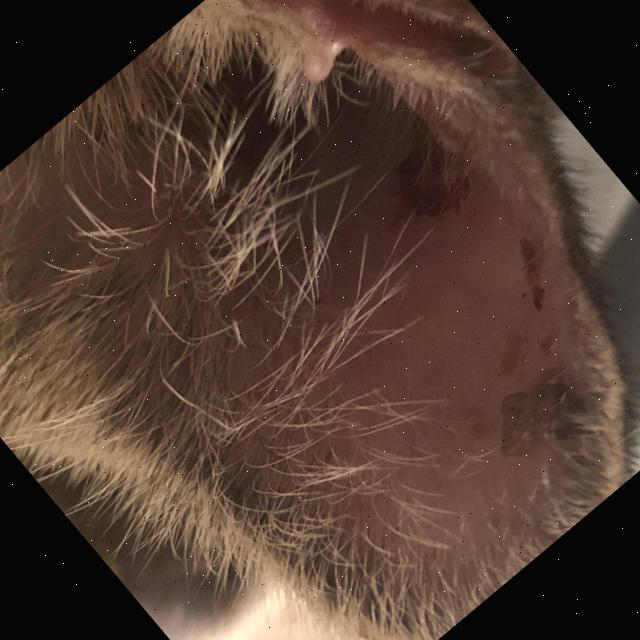cat-scabies: (408, 226, 640, 474), (370, 113, 502, 245)
